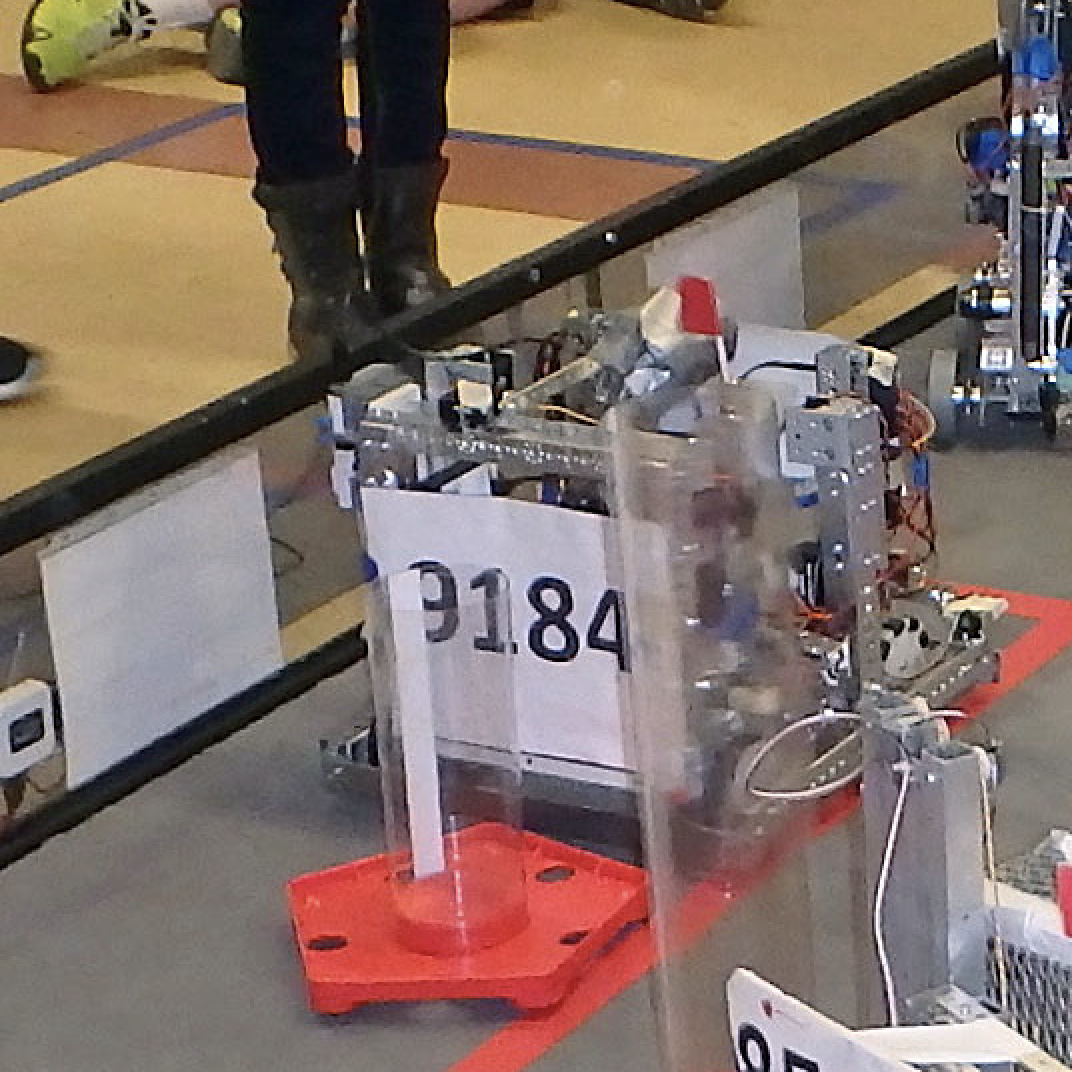robot: (305, 274, 1007, 883), (909, 0, 1072, 453)
